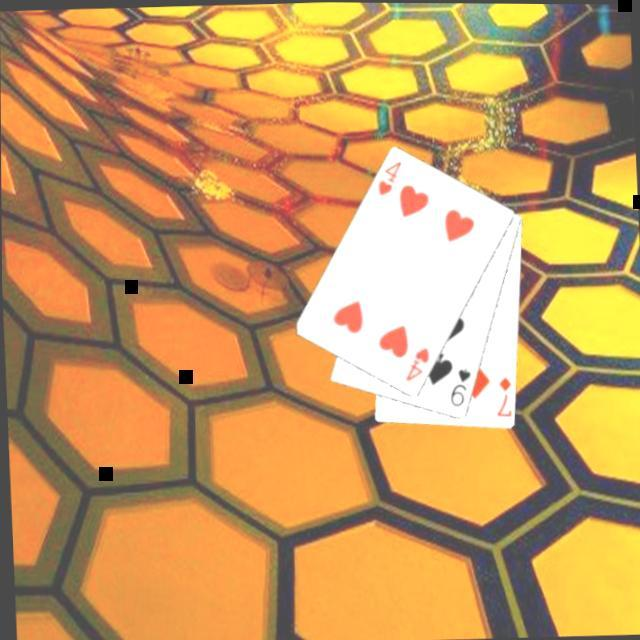4H: (374, 156, 406, 198), (400, 342, 432, 383)
7D: (492, 371, 515, 418)
9S: (446, 362, 476, 408)
